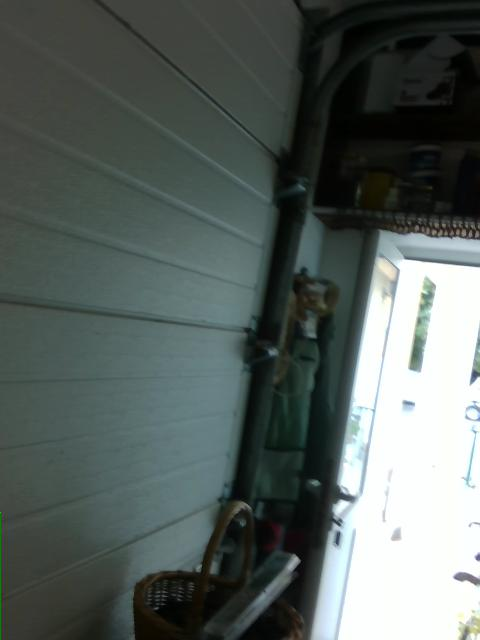open_door: (313, 248, 479, 639)
